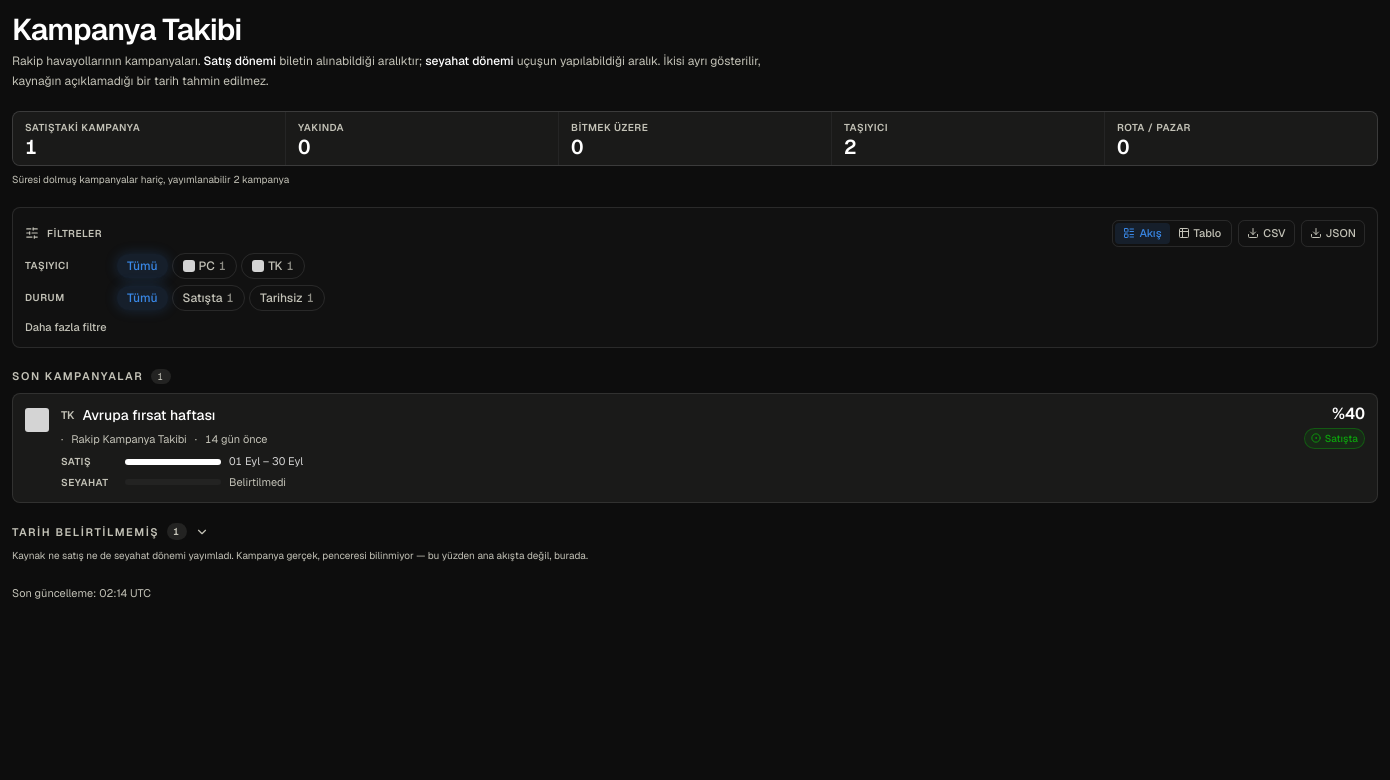
CampaignsClient › keeps undated campaigns out of the main feed and behind a closed group
Check: the text "Avrupa fırsat haftası" is shown, box [82,406,215,425]
Check: the text "Tarihsiz tespit" is not shown
Click the button "Tarih belirtilmemiş 1".
click(110, 532)  # box [12,523,209,540]
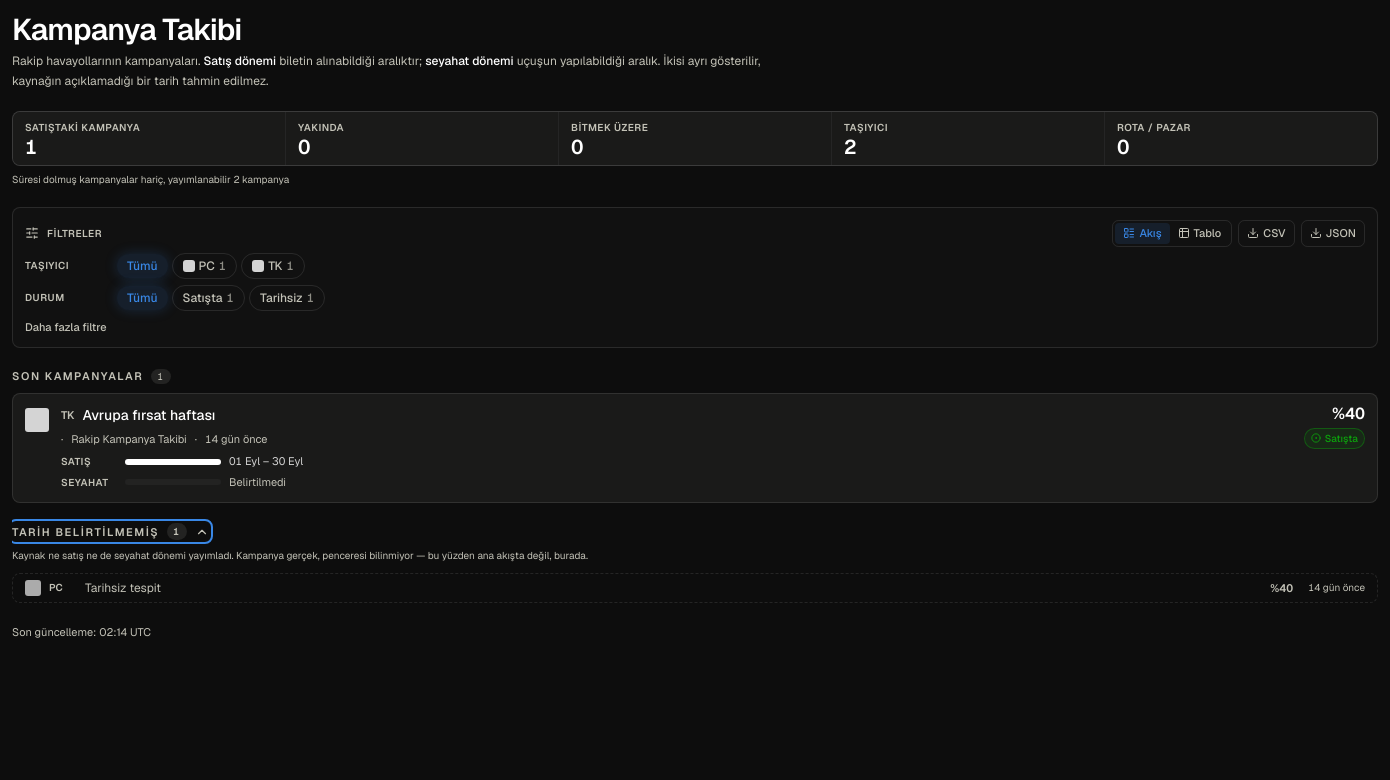
Check: the text "Tarihsiz tespit" is shown, box [85,580,161,596]
